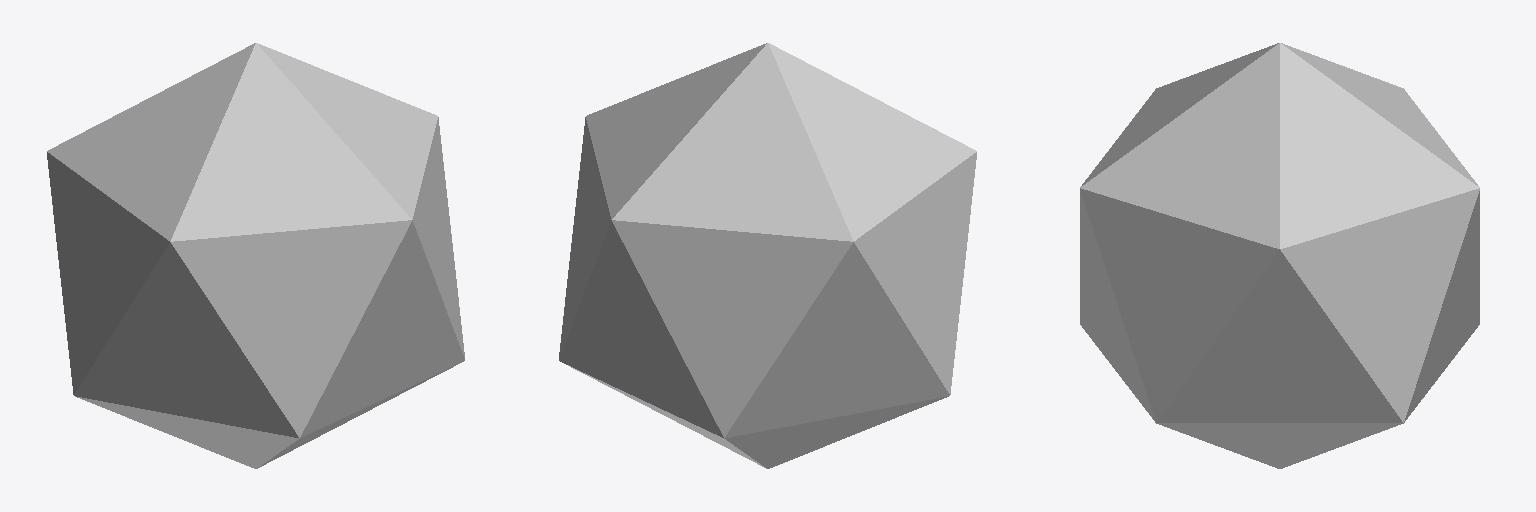
File: icosahedron.obj
The picture shows the model from 3 angles: view 1: azimuth 30°, elevation 25°; view 2: azimuth 150°, elevation 25°; view 3: azimuth 270°, elevation 25°; orthographic projection.
Parts seen in each view (by area): view 1: Solid; view 2: Solid; view 3: Solid.
Part boxes in pixels (left/top/right/bottom): Solid: left=47, top=43, right=464, bottom=468; Solid: left=559, top=43, right=976, bottom=468; Solid: left=1080, top=43, right=1479, bottom=468.
Bounding box in the file's own units: 1.79 × 2 × 1.7.